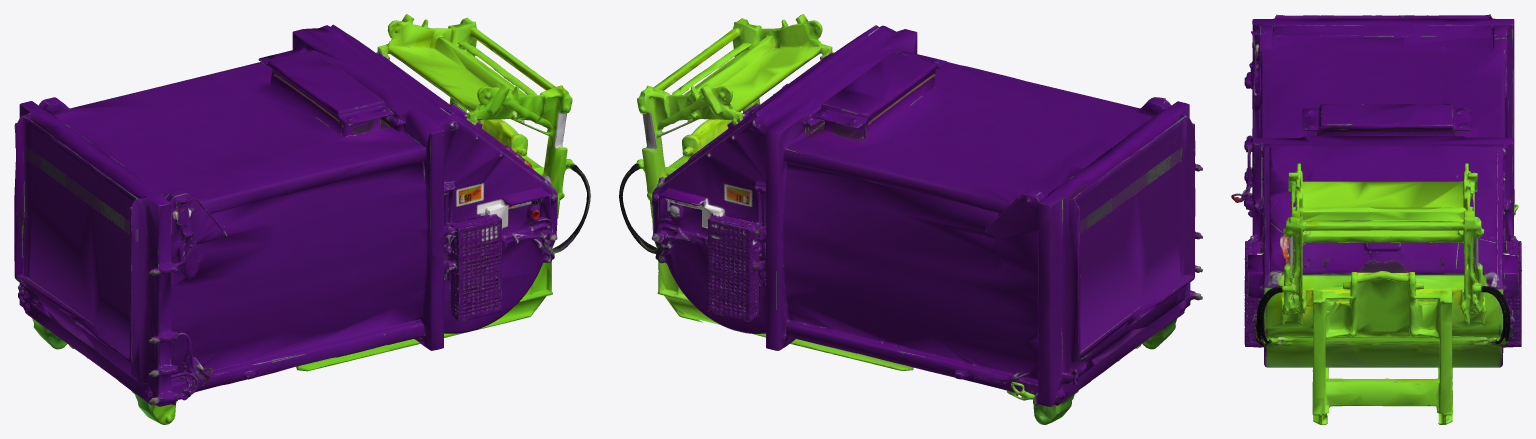
File: Meshy_AI_Industrial_Waste_Comp_0505120424_texture.glb
3 views of the same model, side by side, from view 1: azimuth 30°, elevation 25°; view 2: azimuth 150°, elevation 25°; view 3: azimuth 270°, elevation 25° (orthographic). The views are drawn at different scales.
Visible parts, largest first — view 1: Mesh_0; view 2: Mesh_0; view 3: Mesh_0.
Part boxes in pixels (bbox=[...]): Mesh_0: bbox=[14, 14, 590, 424]; Mesh_0: bbox=[619, 14, 1202, 424]; Mesh_0: bbox=[1231, 14, 1521, 424].
Bounding box in the file's own units: 1.91 × 1 × 1.13.
Materials: 1 (1 with a texture image).
